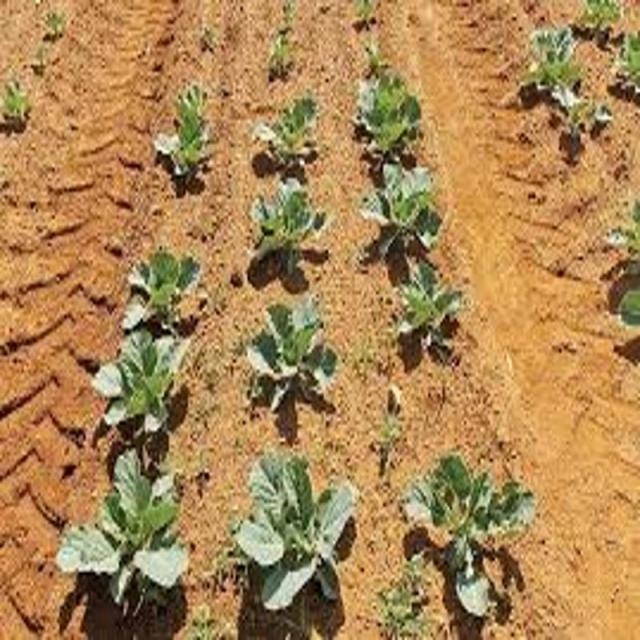Lettuce: (402, 453, 540, 622), (60, 452, 197, 616), (235, 450, 355, 610), (244, 292, 338, 413), (93, 332, 190, 435), (358, 160, 444, 260), (250, 177, 330, 275), (388, 260, 468, 350), (124, 248, 208, 332), (358, 68, 427, 167), (147, 87, 218, 180), (256, 96, 322, 166), (525, 18, 580, 92), (580, 0, 636, 38), (262, 33, 302, 85), (0, 73, 33, 133), (616, 30, 640, 96), (42, 2, 68, 40)
